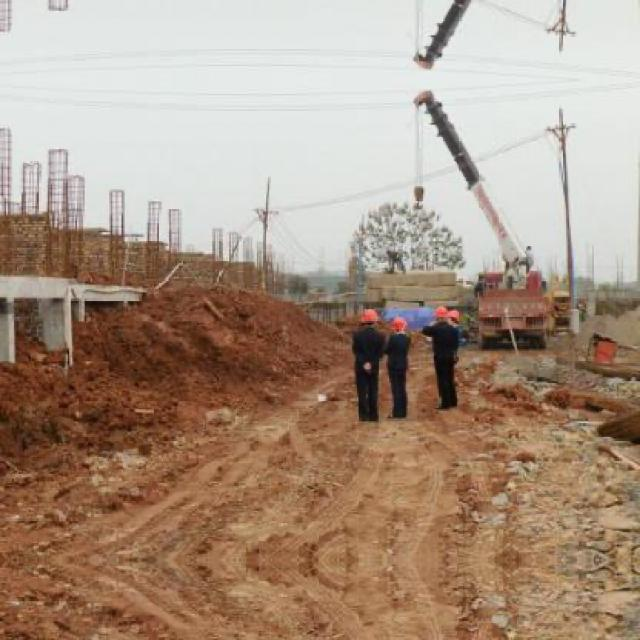helmet: (362, 306, 383, 328), (392, 312, 408, 334), (448, 310, 462, 332), (434, 303, 448, 325)
